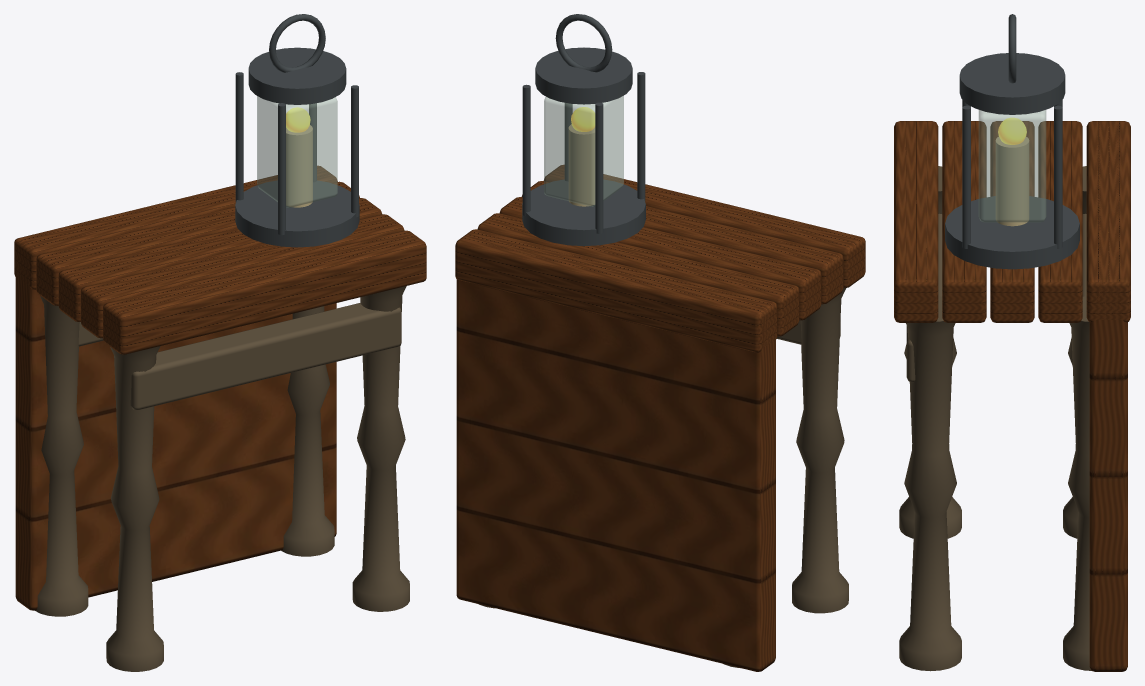
The model's file is undercity-sewers-and-thieves-den-guard-post-5cfd133c__27255.glb.
The picture shows the model from 3 angles, left to right: view 1: azimuth 30°, elevation 25°; view 2: azimuth 150°, elevation 25°; view 3: azimuth 270°, elevation 25°; orthographic projection. The views are drawn at different scales.
Visible parts, largest first — view 1: guard-post; view 2: guard-post; view 3: guard-post.
Part boxes in pixels (<box>): guard-post: <box>14,14,426,671</box>; guard-post: <box>455,14,865,671</box>; guard-post: <box>894,14,1130,671</box>.
Bounding box in the file's own units: 0.8 × 1.41 × 0.492.
6 materials, 1 textured.
